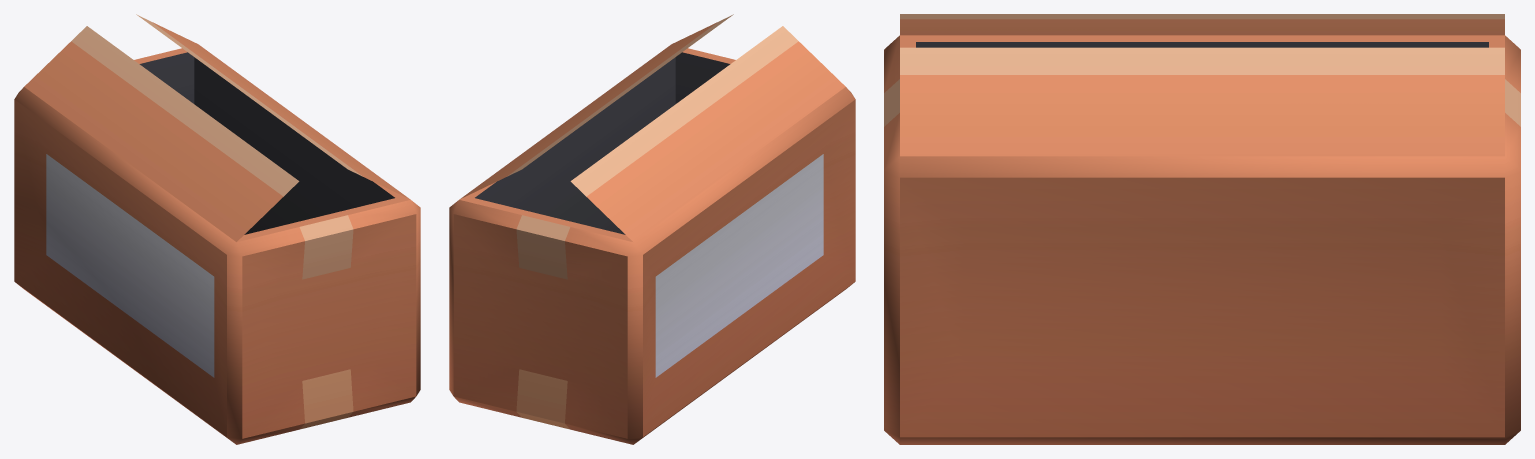
Rendered from box-large-open.glb.
3 views of the same model, side by side, from view 1: azimuth 30°, elevation 25°; view 2: azimuth 150°, elevation 25°; view 3: azimuth 270°, elevation 25° (orthographic). The views are drawn at different scales.
Parts seen in each view (by area): view 1: box-large-open; view 2: box-large-open; view 3: box-large-open.
Part boxes in pixels (x1,y1,x2,y2): box-large-open: (14,14,420,444); box-large-open: (449,14,855,444); box-large-open: (884,14,1520,444).
Size of the model in its own units: 0.25 by 0.3063 by 0.5.
Materials: 1 (1 with a texture image).
